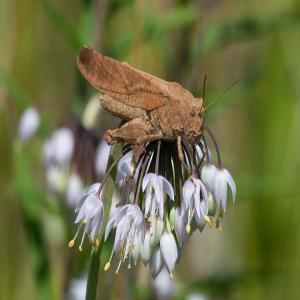locust: (61, 30, 239, 151)
